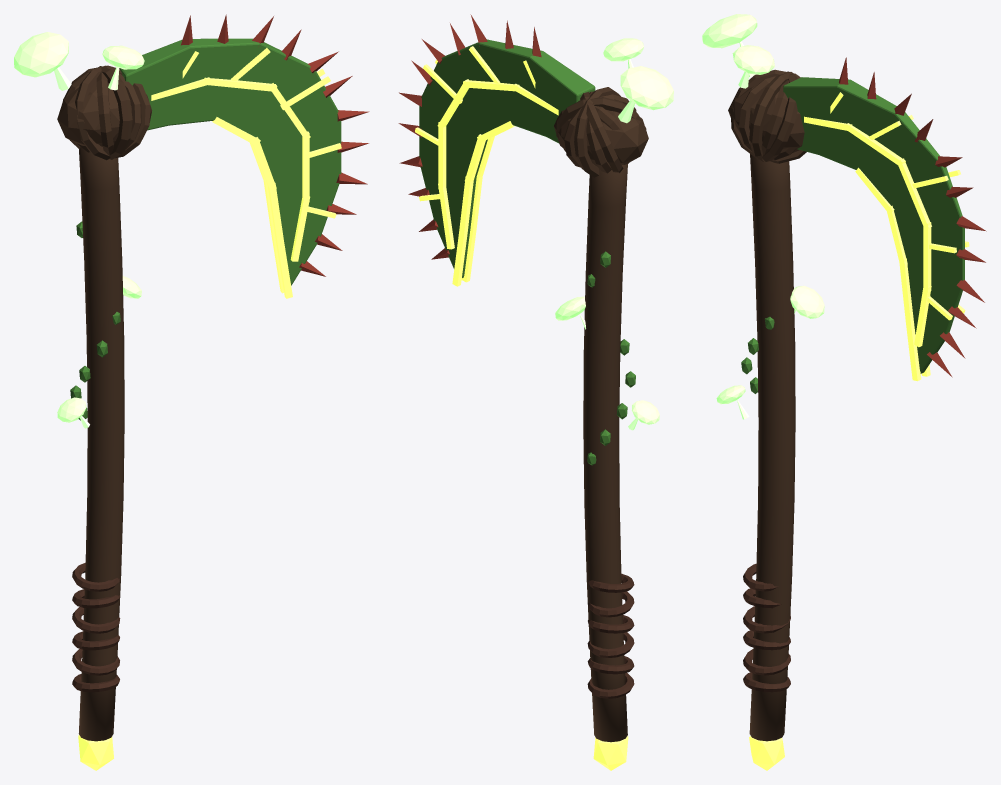
File: thornmaw.glb
The picture shows the model from 3 angles, left to right: view 1: azimuth 30°, elevation 25°; view 2: azimuth 150°, elevation 25°; view 3: azimuth 330°, elevation 25°; orthographic projection. The views are drawn at different scales.
Visible parts, largest first — view 1: AX9_Leaf, AX9_Haft, AX9_Knot, AX9_Cap0, AX9_Root3, AX9_Root1, AX9_Root2, AX9_Seed, AX9_Root5, AX9_Cap1, AX9_Root4; view 2: AX9_Haft, AX9_Leaf, AX9_Cap0, AX9_Knot, AX9_Root3, AX9_Root5, AX9_Seed, AX9_Root1, AX9_Cap1, AX9_Root2, AX9_Rib1_4, AX9_Root4 (+10 smaller); view 3: AX9_Haft, AX9_Leaf, AX9_Cap0, AX9_Root3, AX9_Knot, AX9_Cap1, AX9_Root5, AX9_Seed, AX9_Root1, AX9_Cap2, AX9_Root2, AX9_Root4 (+7 smaller).
Boxes of the visible parts, box(x1,y1,x2,y2) form: AX9_Leaf: box(119, 38, 341, 285); AX9_Haft: box(78, 147, 124, 741); AX9_Knot: box(57, 82, 151, 146); AX9_Cap0: box(14, 32, 68, 77); AX9_Root3: box(98, 66, 132, 159); AX9_Root1: box(75, 65, 110, 160); AX9_Root2: box(96, 71, 113, 155); AX9_Seed: box(78, 735, 113, 770); AX9_Root5: box(63, 65, 150, 158); AX9_Cap1: box(102, 45, 144, 69); AX9_Root4: box(118, 73, 141, 148); AX9_Haft: box(583, 164, 627, 742); AX9_Leaf: box(419, 39, 595, 277); AX9_Cap0: box(620, 66, 673, 110); AX9_Knot: box(554, 110, 648, 166); AX9_Root3: box(574, 87, 620, 177); AX9_Root5: box(580, 92, 623, 172); AX9_Seed: box(593, 736, 628, 770); AX9_Root1: box(556, 97, 646, 151); AX9_Cap1: box(603, 38, 644, 61); AX9_Root2: box(564, 94, 636, 167); AX9_Rib1_4: box(438, 184, 454, 249); AX9_Root4: box(586, 91, 611, 173); AX9_Haft: box(749, 154, 795, 741); AX9_Leaf: box(783, 77, 964, 373); AX9_Cap0: box(702, 14, 757, 48); AX9_Root3: box(749, 72, 792, 161); AX9_Knot: box(728, 86, 804, 152); AX9_Cap1: box(732, 45, 774, 74); AX9_Root5: box(761, 71, 797, 161); AX9_Seed: box(749, 736, 784, 770); AX9_Root1: box(730, 69, 806, 163); AX9_Cap2: box(790, 285, 824, 318); AX9_Root2: box(739, 76, 775, 150); AX9_Root4: box(761, 80, 788, 154).
Bounding box in the file's own units: 0.6295 × 1.41 × 0.191.
